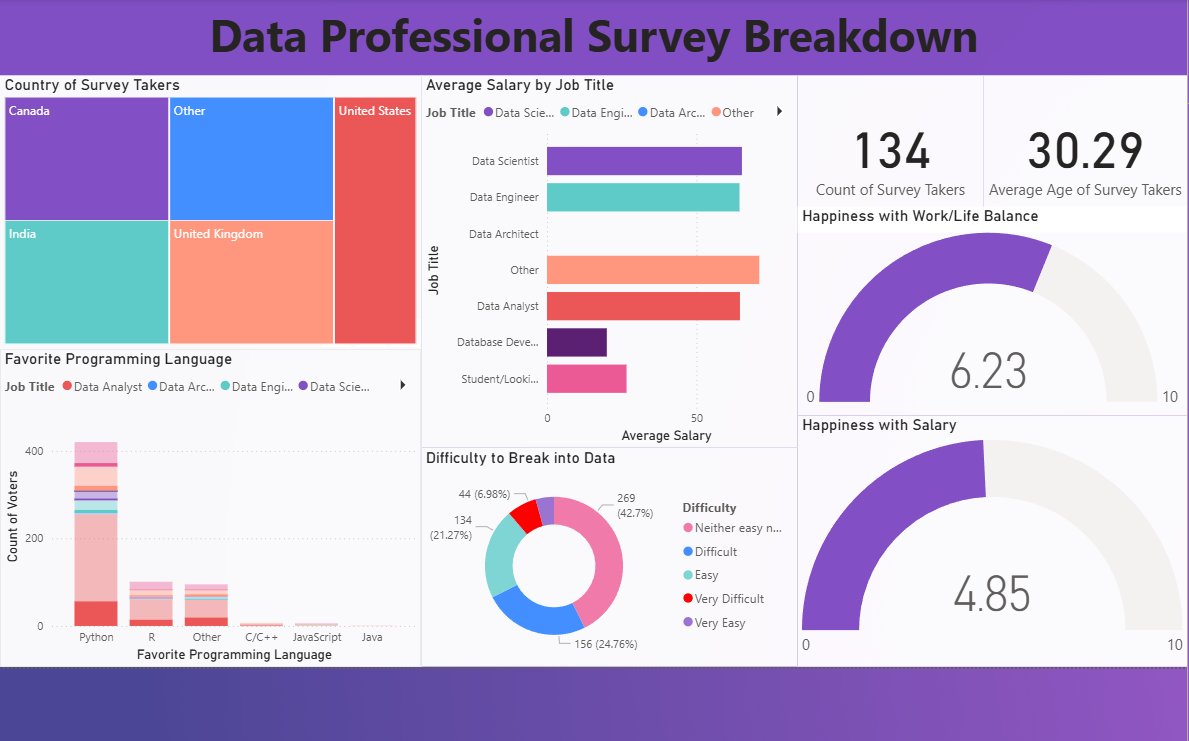

The dashboard page shown, as its layout file describes it:
{"tool":"powerbi","page":{"name":"Page 1","canvas":[1280,720],"ordinal":0},"visuals":[{"type":"textbox","box":[0,0,1280.3,82.3],"z":0},{"type":"card","fields":{"Values":["Count(Data Professional Survey.Unique ID)"]},"box":[859.8,82.2,200.8,169.8],"z":1},{"type":"card","fields":{"Values":["Avg(Data Professional Survey.Q10 - Current Age)"]},"box":[1060.6,82.2,219.7,169.8],"z":2},{"type":"barChart","title":"Average Salary by Job Title","fields":{"Category":["Data Professional Survey.Q1 - Which Title Best Fits your Current Role?.1"],"Y":["Avg(Data Professional Survey.Average Salary)"],"Series":["Data Professional Survey.Q1 - Which Title Best Fits your Current Role?.1"]},"box":[454.2,82.2,405.6,401.6],"z":3},{"type":"columnChart","title":"Favorite Programming Language","fields":{"Category":["Data Professional Survey.Q5 - Favorite Programming Language.1"],"Y":["CountNonNull(Data Professional Survey.Unique ID)"],"Series":["Data Professional Survey.Q1 - Which Title Best Fits your Current Role?.1"]},"box":[0,377.3,454.2,342.3],"z":4},{"type":"treemap","title":"Country of Survey Takers","fields":{"Group":["Data Professional Survey.Q11 - Which Country do you live in?.1"],"Values":["Count(Data Professional Survey.Q11 - Which Country do you live in?.1)"]},"box":[0,82.2,421.8,295.1],"z":5},{"type":"gauge","title":"Happiness with Work/Life Balance","fields":{"Y":["Avg(Data Professional Survey.Q6 - How Happy are you in your Current Position with the following? (Work/Life Balance))"],"MinValue":["Min(Data Professional Survey.Q6 - How Happy are you in your Current Position with the following? (Work/Life Balance))1"],"MaxValue":["Max(Data Professional Survey.Q6 - How Happy are you in your Current Position with the following? (Work/Life Balance))"]},"box":[859.8,223.7,420.5,225.1],"z":6},{"type":"gauge","title":"Happiness with Salary","fields":{"Y":["Avg(Data Professional Survey.Q6 - How Happy are you in your Current Position with the following? (Salary))"],"MinValue":["Min(Data Professional Survey.Q6 - How Happy are you in your Current Position with the following? (Salary))"],"MaxValue":["Max(Data Professional Survey.Q6 - How Happy are you in your Current Position with the following? (Salary))"]},"box":[859.8,448.8,420.5,270.9],"z":7},{"type":"donutChart","title":"Difficulty to Break into Data","fields":{"Category":["Data Professional Survey.Q7 - How difficult was it for you to break into Data?"],"Y":["CountNonNull(Data Professional Survey.Q7 - How difficult was it for you to break into Data?)"]},"box":[454.2,483.8,394.9,235.8],"z":8}]}

Visuals, with their boxes in screenshot pixels (x1, y1, x2, y2):
textbox: (9, 0, 1182, 75)
card - Count(Data Professional Survey.Unique ID): (797, 75, 981, 231)
card - Avg(Data Professional Survey.Q10 - Current Age): (981, 75, 1182, 231)
"Average Salary by Job Title" barChart: (425, 75, 797, 443)
"Favorite Programming Language" columnChart: (9, 346, 425, 659)
"Country of Survey Takers" treemap: (9, 75, 396, 346)
"Happiness with Work/Life Balance" gauge: (797, 205, 1182, 411)
"Happiness with Salary" gauge: (797, 411, 1182, 659)
"Difficulty to Break into Data" donutChart: (425, 443, 787, 659)
